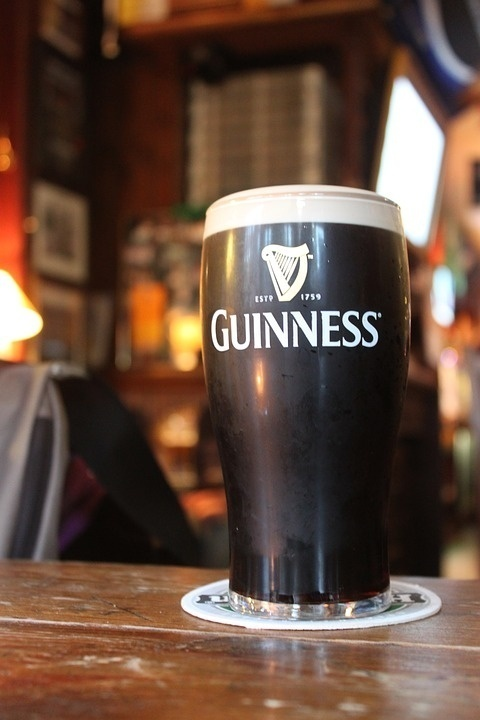whiskey: (185, 195, 416, 612)
